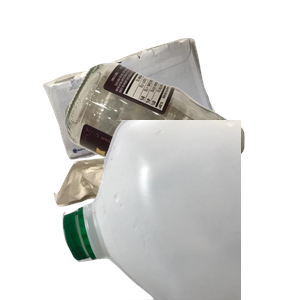glass: (62, 60, 300, 240)
paper: (40, 35, 249, 187)
plastic: (60, 120, 300, 300)
trash: (51, 155, 261, 300)
